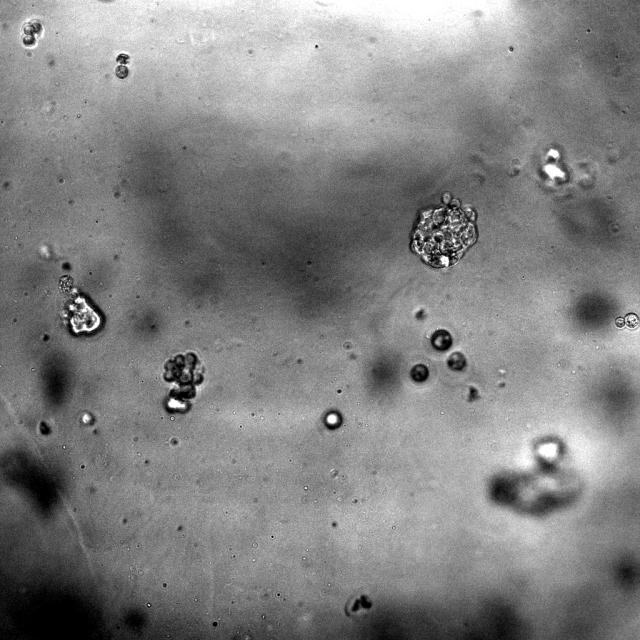organoid: (411, 192, 476, 271), (59, 275, 105, 337), (162, 351, 205, 413), (538, 145, 570, 190), (20, 18, 42, 48), (344, 593, 372, 616), (430, 329, 452, 351), (614, 312, 639, 330), (446, 351, 466, 371), (410, 363, 429, 383), (323, 410, 342, 429), (116, 53, 129, 78), (38, 420, 51, 435), (82, 412, 94, 425)
